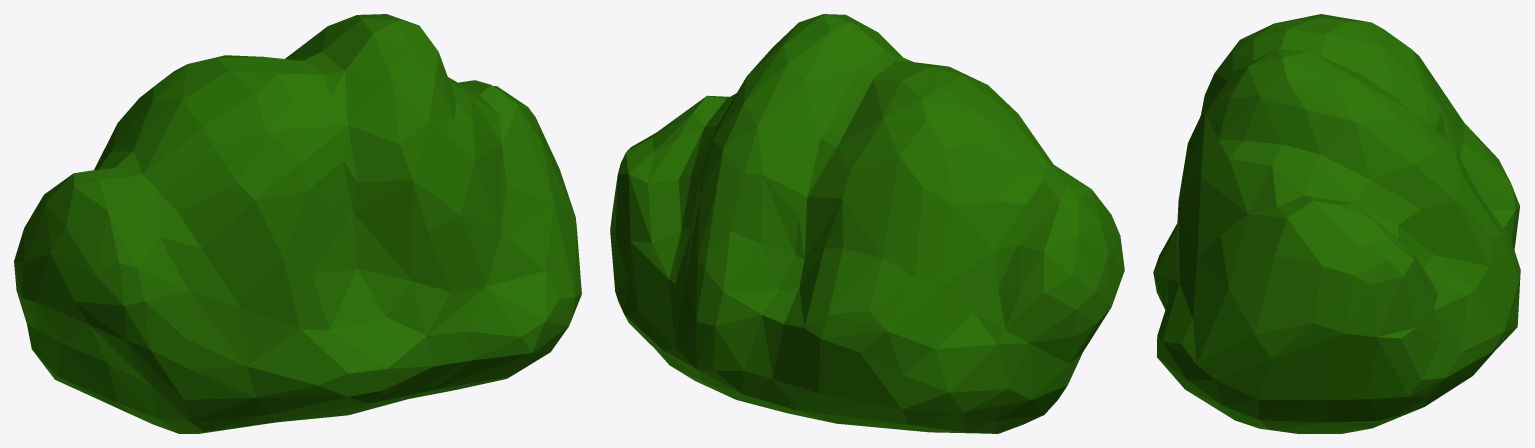
Rendered from Bush_02.glb.
3 views of the same model, side by side, from view 1: azimuth 30°, elevation 25°; view 2: azimuth 150°, elevation 25°; view 3: azimuth 270°, elevation 25° (orthographic). The views are drawn at different scales.
Visible parts, largest first — view 1: Bush_02; view 2: Bush_02; view 3: Bush_02.
Boxes of the visible parts, left/top/right/bottom form: Bush_02: left=14, top=14, right=581, bottom=433; Bush_02: left=610, top=14, right=1124, bottom=433; Bush_02: left=1153, top=14, right=1520, bottom=433.
Size of the model in its own units: 130 by 89.49 by 87.41.
